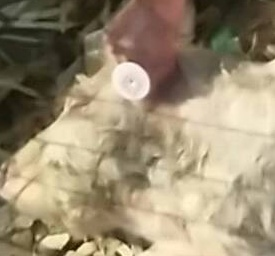text: (102, 53, 162, 109)
